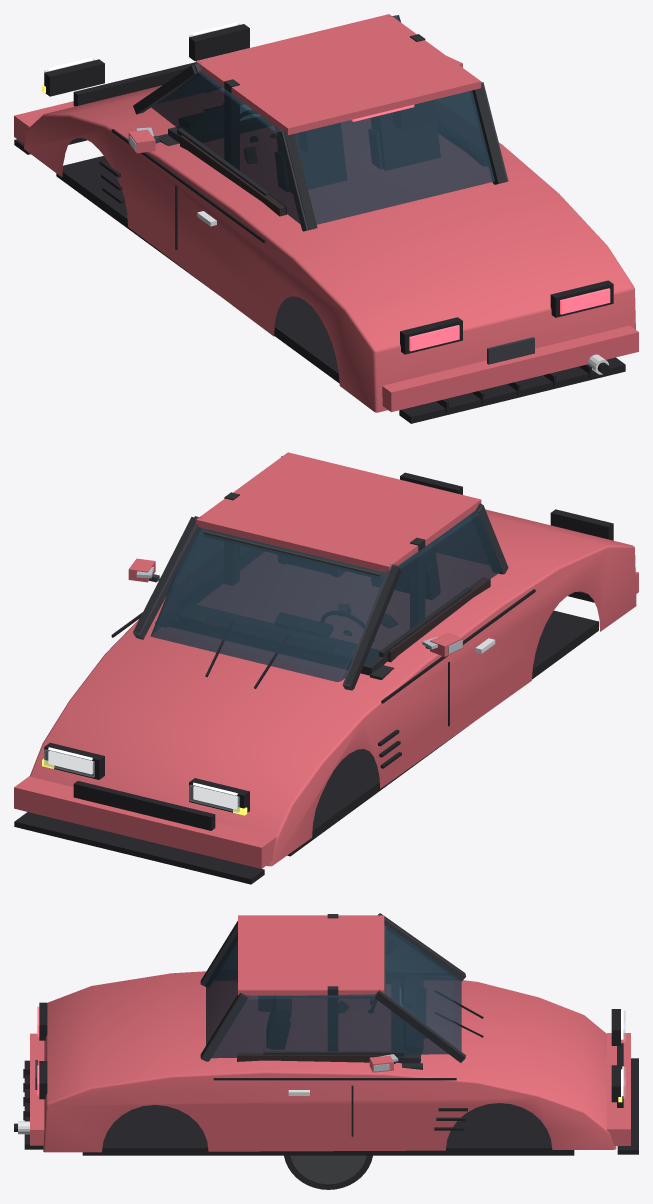
The model's file is kaze.glb.
The picture shows the model from 3 angles, top to bottom: view 1: azimuth 30°, elevation 25°; view 2: azimuth 150°, elevation 25°; view 3: azimuth 270°, elevation 25°; orthographic projection. The views are drawn at different scales.
Visible parts, largest first — view 1: body_shell, cabin_glass, cabin_roof, rear_bumper, undertray, rear_diffuser, seat_pass_back, grille, seat_driver_back, head_housing_R, head_housing_L, pillar_c_R (+16 smaller); view 2: body_shell, cabin_glass, cabin_roof, front_bumper, undertray, front_splitter, grille, dash_cowl, dashboard, pillar_a_L, headliner, pillar_b_L (+15 smaller); view 3: body_shell, cabin_glass, cabin_roof, undertray, front_bumper, wheel_fl_sidewall, rear_bumper, door_card_R, pillar_a_R, front_splitter, dashboard, wheel_fl_tire (+8 smaller).
Boxes of the visible parts, x1,y1,x2,y2 form: body_shell: (24, 85, 635, 412); cabin_glass: (151, 70, 494, 224); cabin_roof: (196, 14, 481, 135); rear_bumper: (382, 325, 638, 412); undertray: (56, 156, 339, 383); rear_diffuser: (399, 357, 625, 423); seat_pass_back: (371, 113, 440, 169); grille: (73, 62, 195, 106); seat_driver_back: (277, 133, 346, 192); head_housing_R: (189, 24, 249, 61); head_housing_L: (44, 59, 104, 96); pillar_c_R: (470, 82, 506, 184); body_shell: (29, 509, 636, 866); cabin_glass: (150, 512, 501, 681); cabin_roof: (196, 452, 481, 572); front_bumper: (14, 776, 276, 868); undertray: (287, 610, 598, 856); front_splitter: (14, 812, 264, 884); grille: (73, 781, 215, 830); dash_cowl: (179, 604, 369, 662); dashboard: (168, 616, 387, 675); pillar_a_L: (344, 566, 401, 689); headliner: (203, 530, 384, 578); pillar_b_L: (410, 537, 425, 628); body_shell: (43, 971, 616, 1152); cabin_glass: (206, 924, 461, 1058); cabin_roof: (238, 915, 384, 995); undertray: (82, 1103, 574, 1155); front_bumper: (607, 1033, 630, 1145); wheel_fl_sidewall: (290, 1155, 366, 1184); rear_bumper: (30, 1033, 44, 1145); door_card_R: (237, 1053, 395, 1063); pillar_a_R: (375, 991, 464, 1062); front_splitter: (617, 1058, 638, 1154); dashboard: (392, 981, 420, 1063); wheel_fl_tire: (284, 1155, 372, 1189).
Size of the model in its own units: 2.26 by 1.92 by 4.69.
